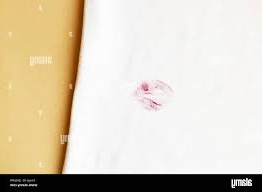lipstick: (136, 80, 174, 111)
